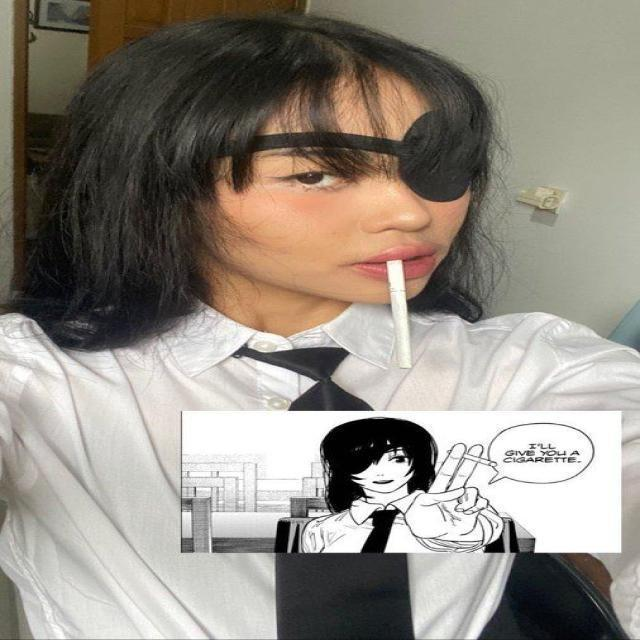rokok: (383, 254, 422, 376)
